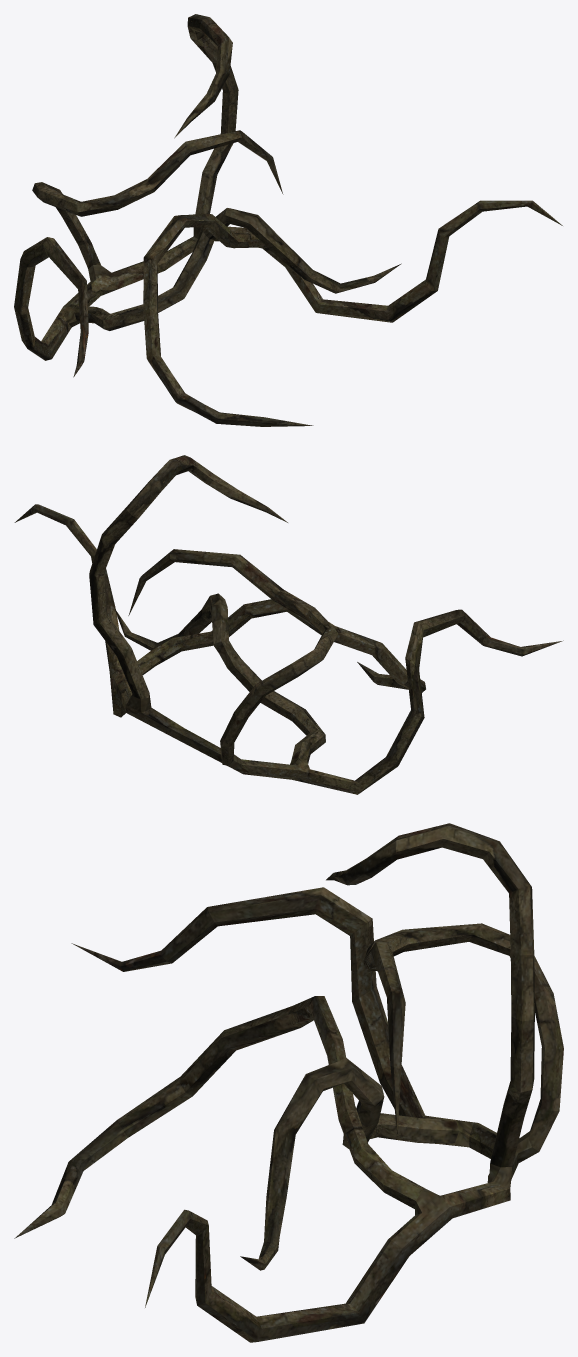
File: Door.Block.fbx
The picture shows the model from 3 angles, top to bottom: view 1: azimuth 30°, elevation 25°; view 2: azimuth 150°, elevation 25°; view 3: azimuth 270°, elevation 25°; orthographic projection. The views are drawn at different scales.
Visible parts, largest first — view 1: Door.Block; view 2: Door.Block; view 3: Door.Block.
Boxes of the visible parts, left/top/right/bottom form: Door.Block: left=14, top=14, right=562, bottom=426; Door.Block: left=14, top=455, right=563, bottom=794; Door.Block: left=14, top=823, right=563, bottom=1342.
Size of the model in its own units: 404 by 222 by 248.
